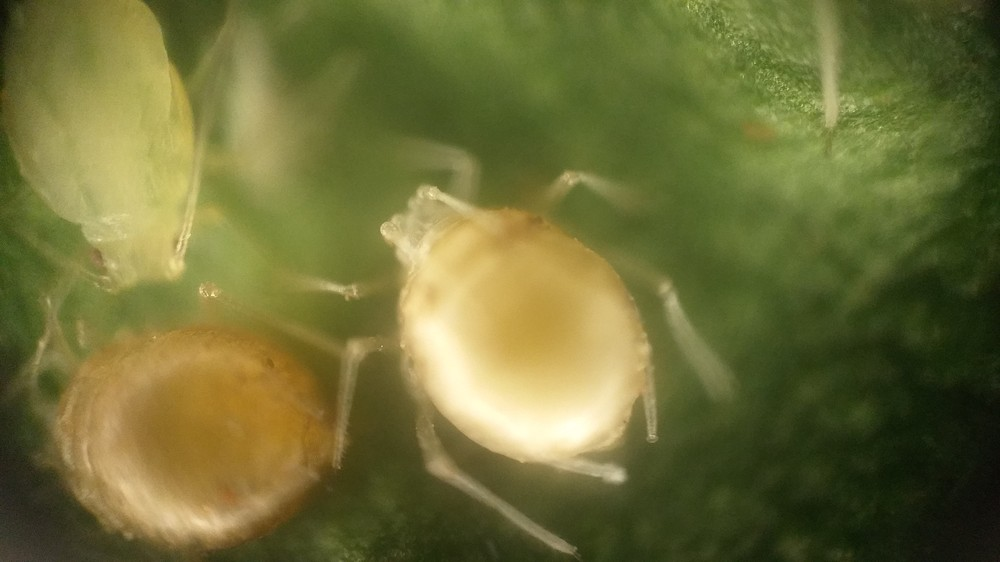Pulgon: (292, 138, 774, 560), (2, 2, 350, 337), (17, 262, 388, 555)
